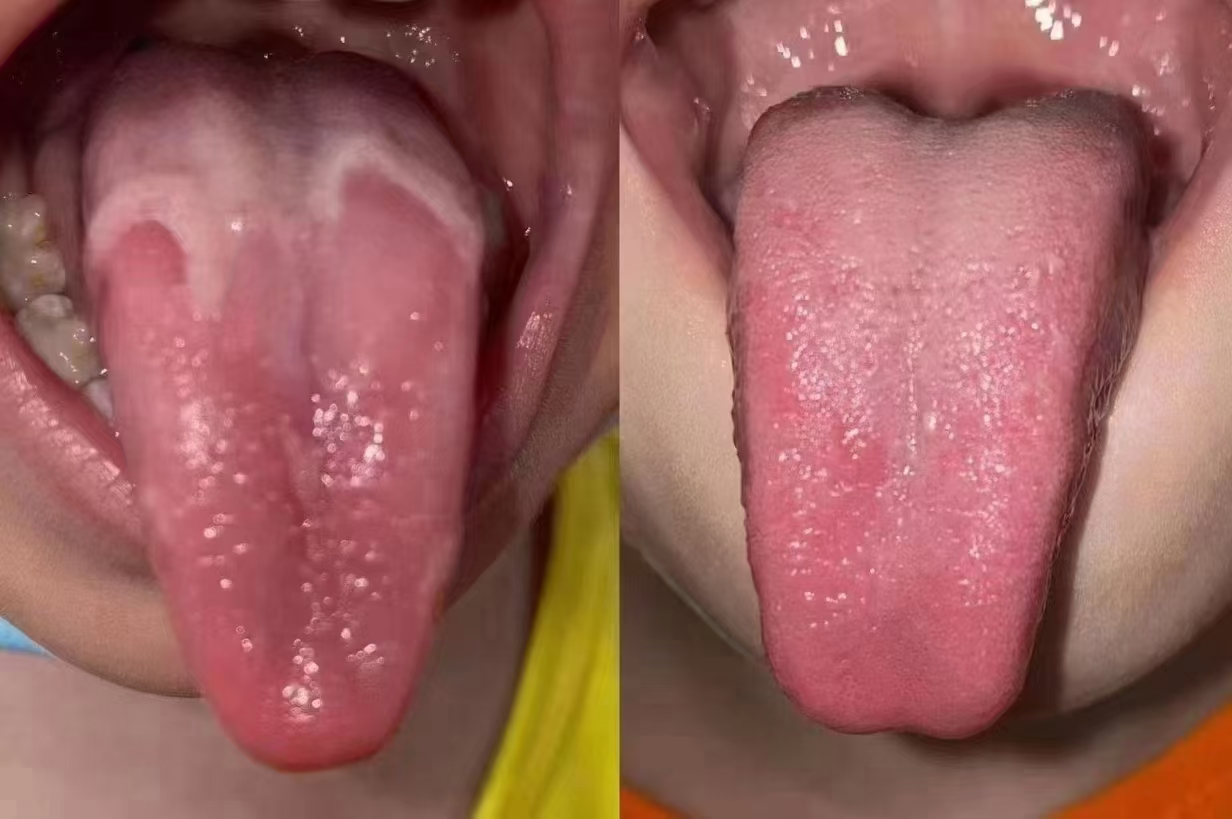baitaishe: (83, 55, 485, 774), (730, 85, 1151, 740)
botaishe: (99, 149, 466, 318)
hongshe: (82, 54, 484, 773), (729, 85, 1150, 740)
